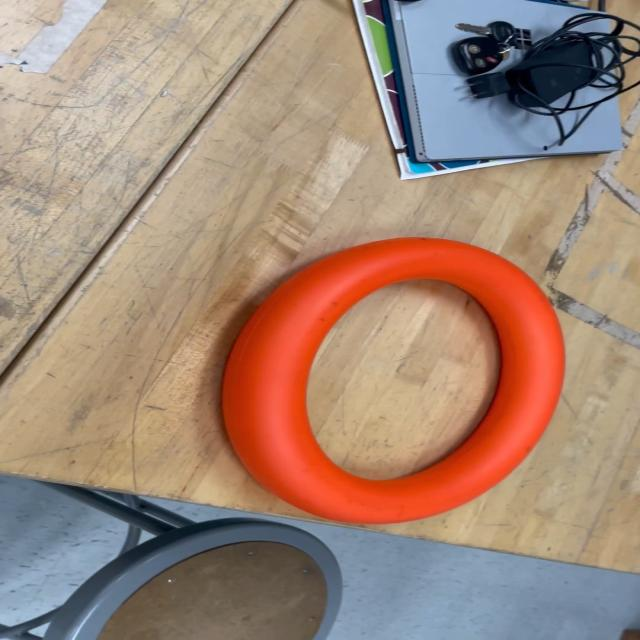note: (225, 240, 568, 527)
